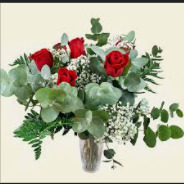RedRose: (65, 34, 89, 62), (105, 50, 127, 76), (55, 67, 82, 88), (28, 47, 52, 70)
